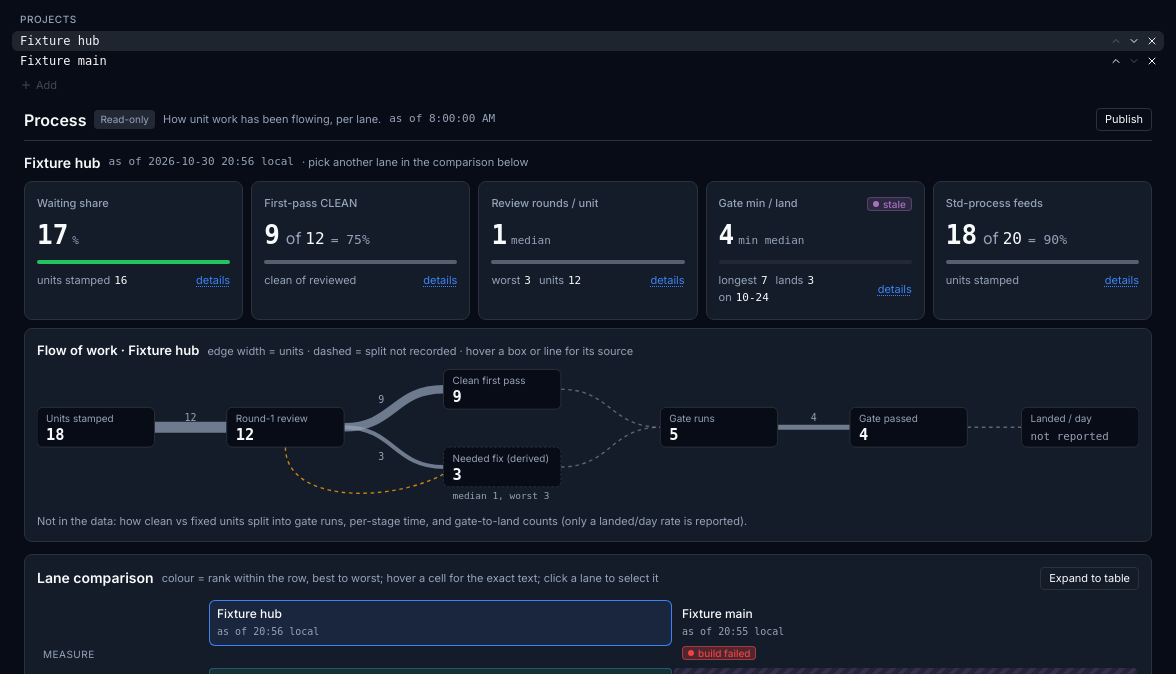
Test: COMP-COCKPIT-FLEET-PROJECTS-1 PROJECTS list › remove POSTs the shorter list; the lane leaves the columns and rows and joins the Add picker
Step 1. Click the button with test id "fleet-project-remove-main" → (1152, 61), box [1144,53,1160,69]
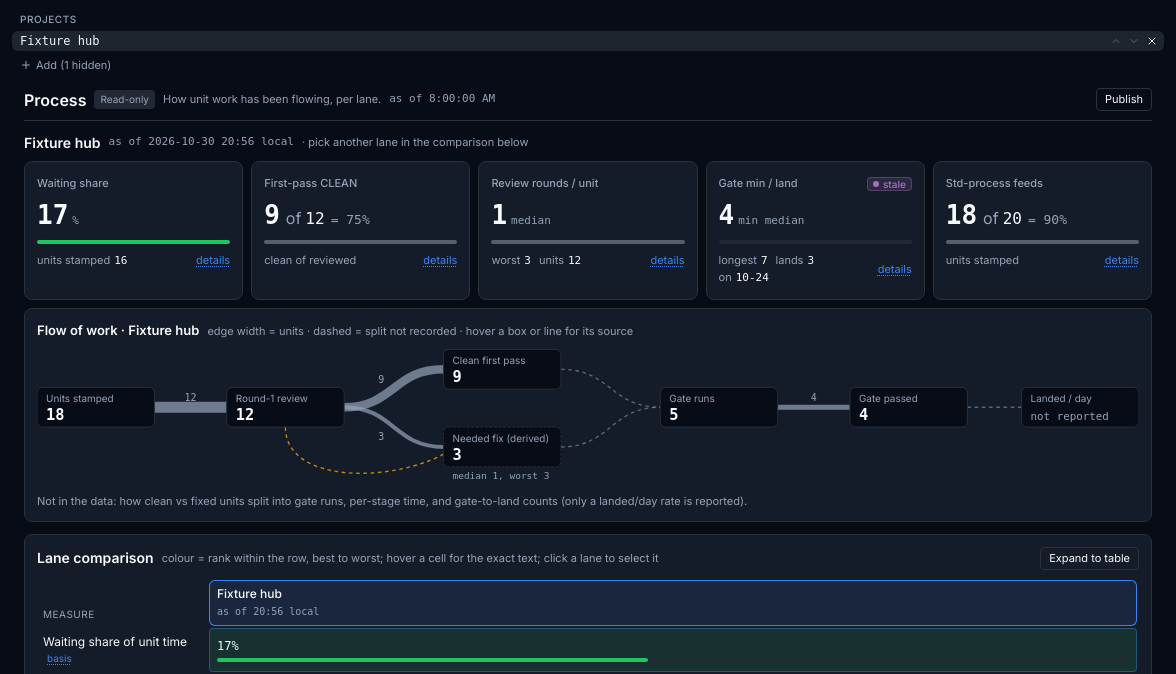
Step 2. Click the button with test id "fleet-projects-add" → (84, 65), box [12,55,1164,76]
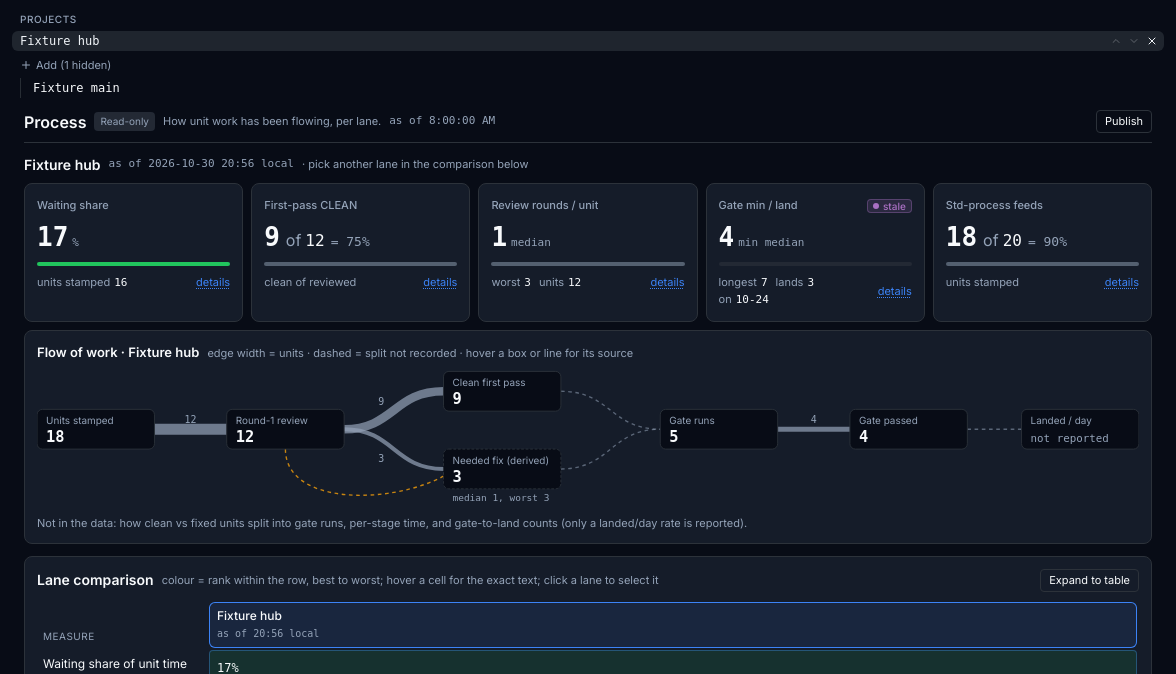
Check: the button with test id "fleet-projects-add-main" is shown, box [25,78,1164,98]
